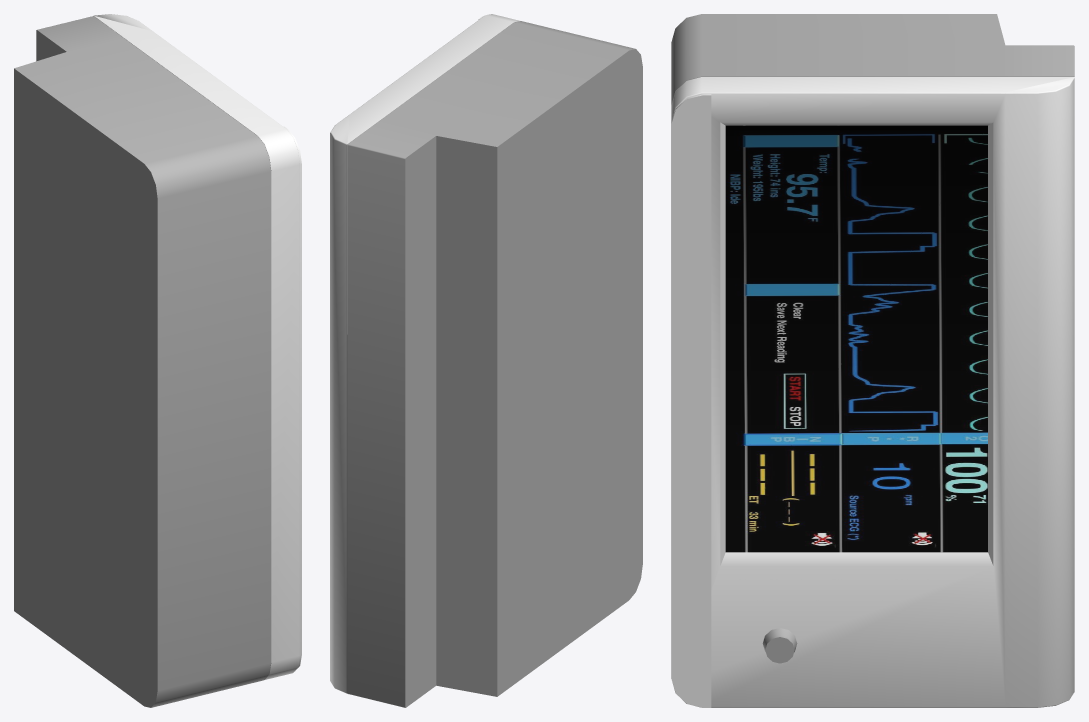
3 views of the same model, side by side, from view 1: azimuth 30°, elevation 25°; view 2: azimuth 150°, elevation 25°; view 3: azimuth 270°, elevation 25° (orthographic). The views are drawn at different scales.
Parts seen in each view (by area): view 1: Cube.001; view 2: Cube.001; view 3: Cube.001.
Boxes of the visible parts, box(x1,y1,x2,y2) form: Cube.001: box(14, 14, 301, 707); Cube.001: box(330, 14, 642, 707); Cube.001: box(671, 14, 1074, 707).
Bounding box in the file's own units: 15.08 × 51.1 × 30.
